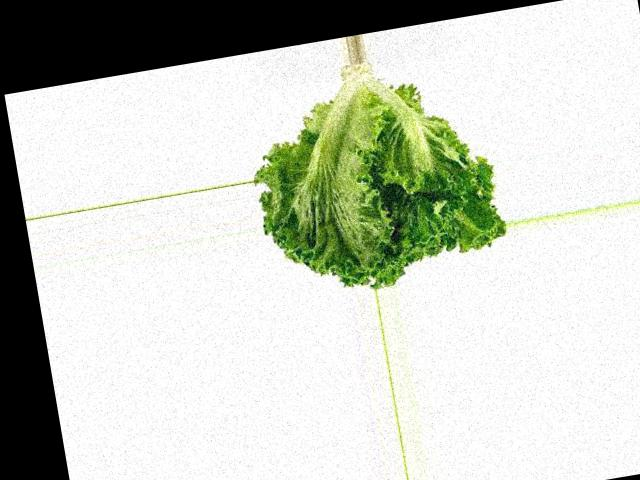lettuce: (354, 155, 538, 281)
